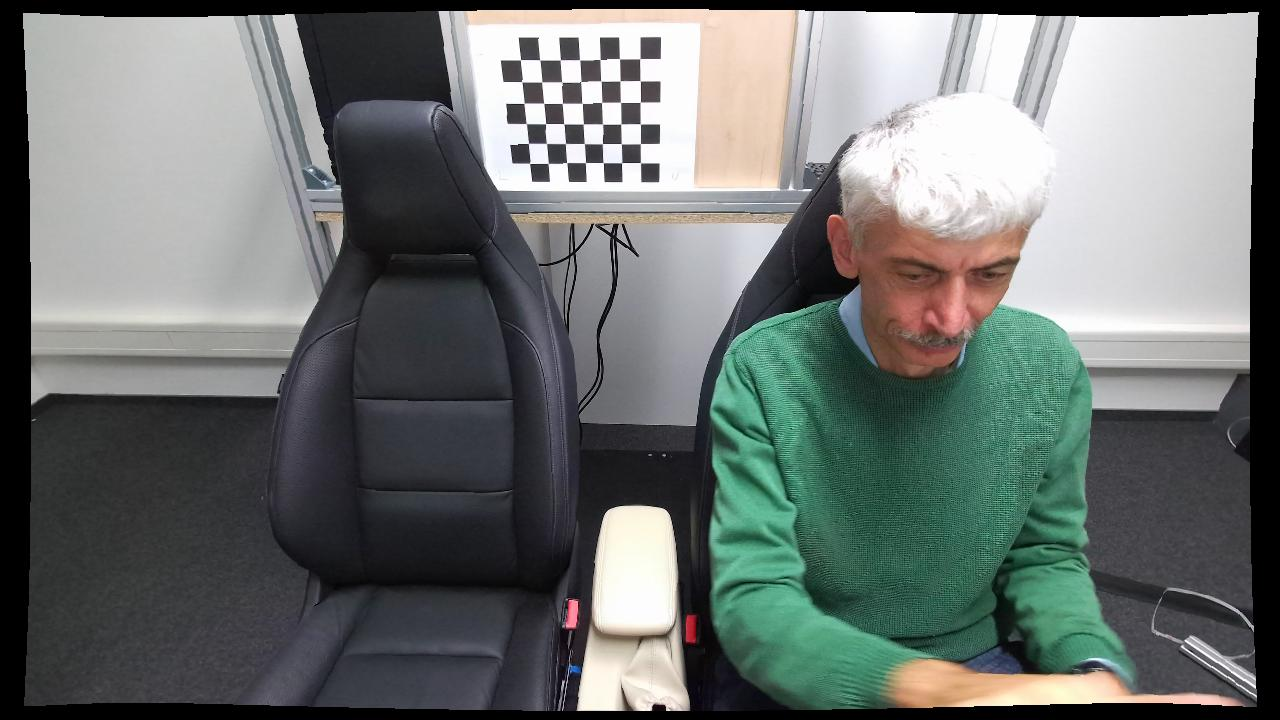SafeDriving: (702, 91, 1149, 712)
